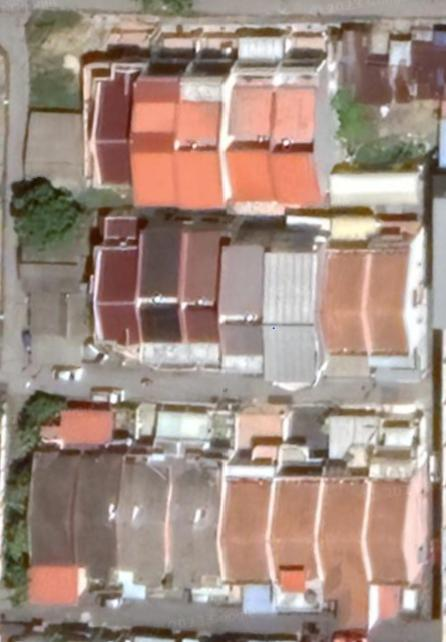building: (315, 399, 383, 637), (216, 399, 288, 621), (362, 397, 428, 637), (264, 396, 329, 619), (166, 392, 232, 606), (118, 391, 184, 604), (22, 402, 87, 611), (130, 26, 201, 215), (271, 22, 334, 223), (171, 30, 238, 217), (228, 21, 286, 219), (72, 48, 148, 197), (77, 402, 129, 589), (317, 210, 379, 362), (366, 218, 424, 362), (262, 243, 319, 386), (88, 209, 141, 352), (217, 238, 267, 376), (136, 218, 183, 349), (177, 221, 225, 348)
